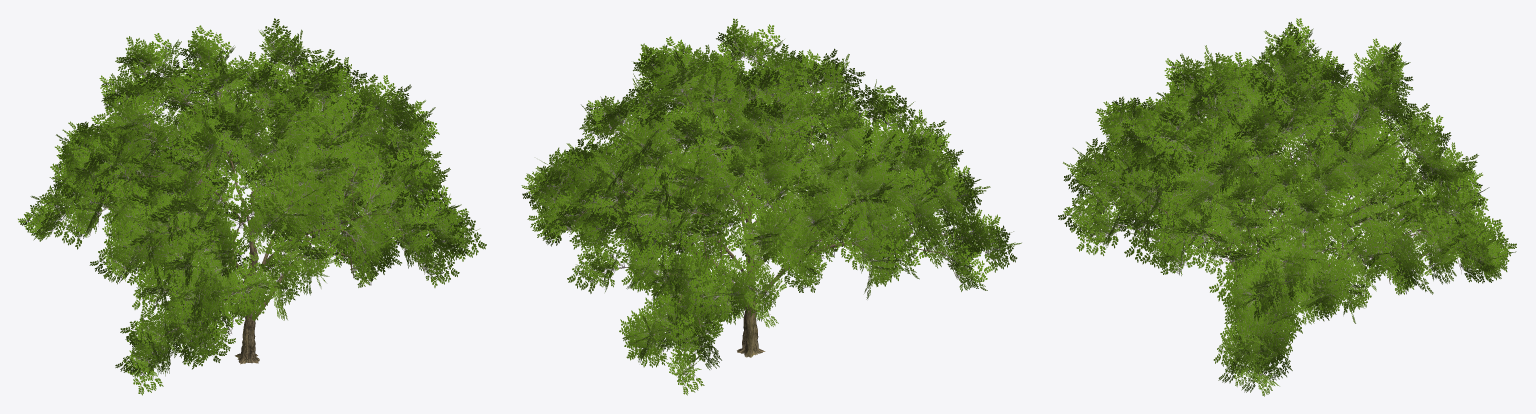
The model's file is real_tree_model2.glb.
3 renders of one model, left to right at view 1: azimuth 30°, elevation 25°; view 2: azimuth 150°, elevation 25°; view 3: azimuth 270°, elevation 25°, orthographic. The views are drawn at different scales.
Parts seen in each view (by area): view 1: Euro_Beech_7; view 2: Euro_Beech_7; view 3: Euro_Beech_7.
Part boxes in pixels (<box>): Euro_Beech_7: <box>18,18,486,395</box>; Euro_Beech_7: <box>521,18,1021,395</box>; Euro_Beech_7: <box>1058,18,1516,396</box>.
Size of the model in its own units: 24.65 by 16.88 by 23.25.
2 materials, 2 textured.
